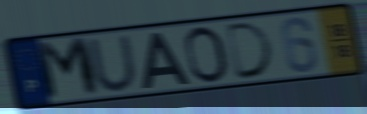6: (279, 15, 320, 74)
A: (140, 30, 192, 91)
D: (224, 19, 278, 82)
M: (32, 35, 104, 103)
O: (182, 24, 232, 86)
U: (85, 33, 142, 94)
